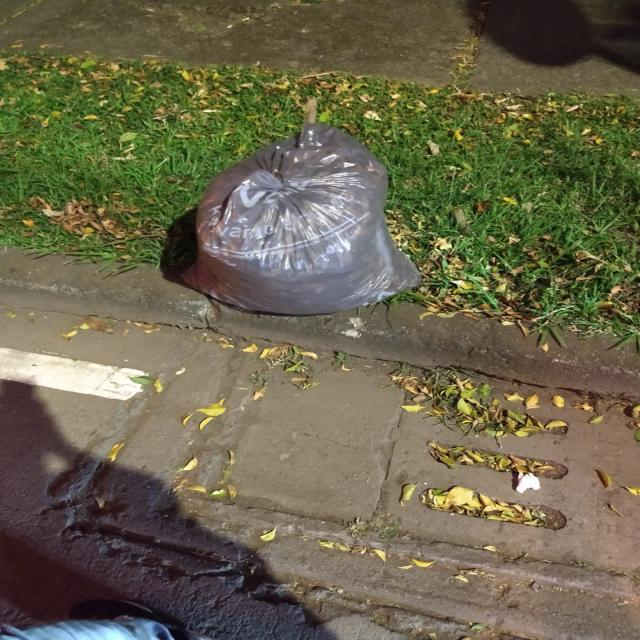Garbage_Bag: (177, 119, 436, 316)
